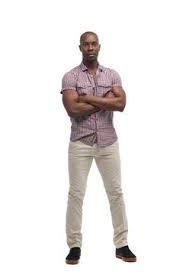person: (55, 29, 148, 268)
